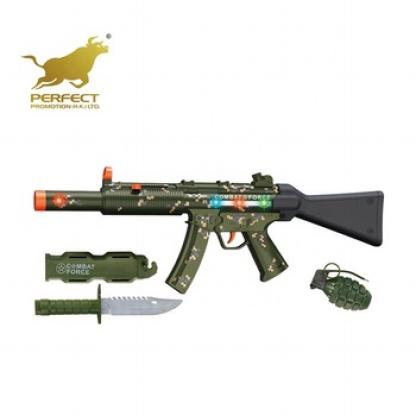Grenade: (310, 261, 374, 312)
Gun: (33, 163, 386, 296)
Knife: (35, 282, 183, 324)
